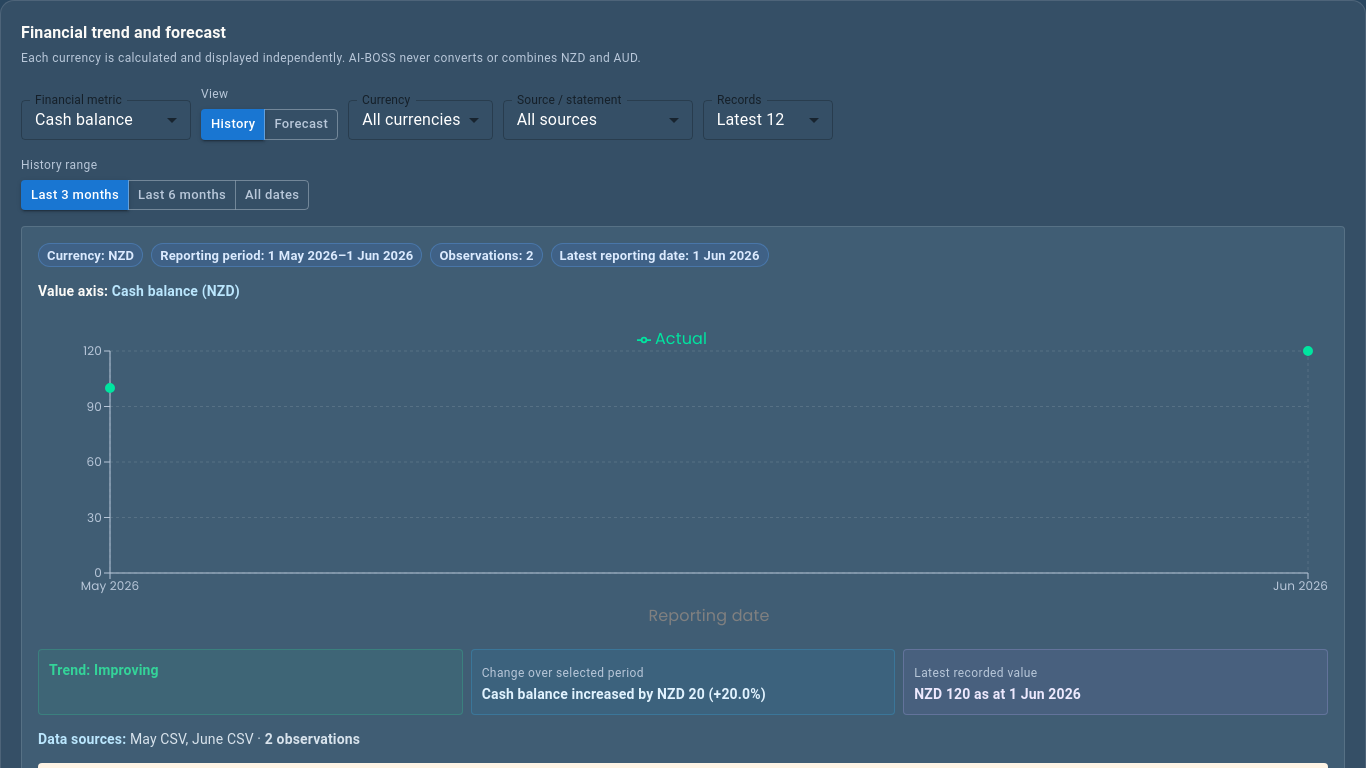
Scenario: HistoricalMetricsChart › loads a deterministic forecast when forecast mode and a horizon are selected
Expected: the text "Trend: improving" is shown, [49,662,159,678]
Click the button "Forecast".
click(301, 124)  # box [264,109,338,140]
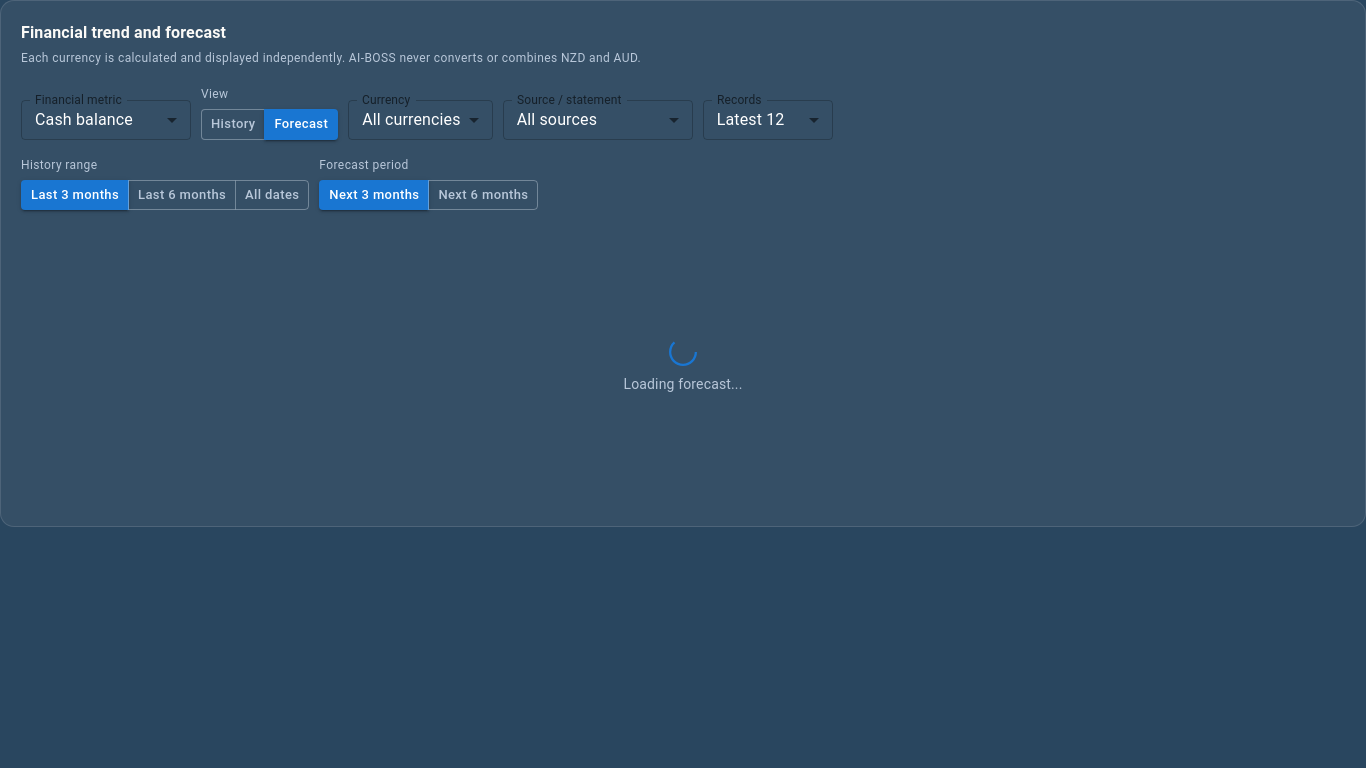
Click the button "Next 6 months".
click(483, 195)  # box [428,180,538,210]
(page scrolled)
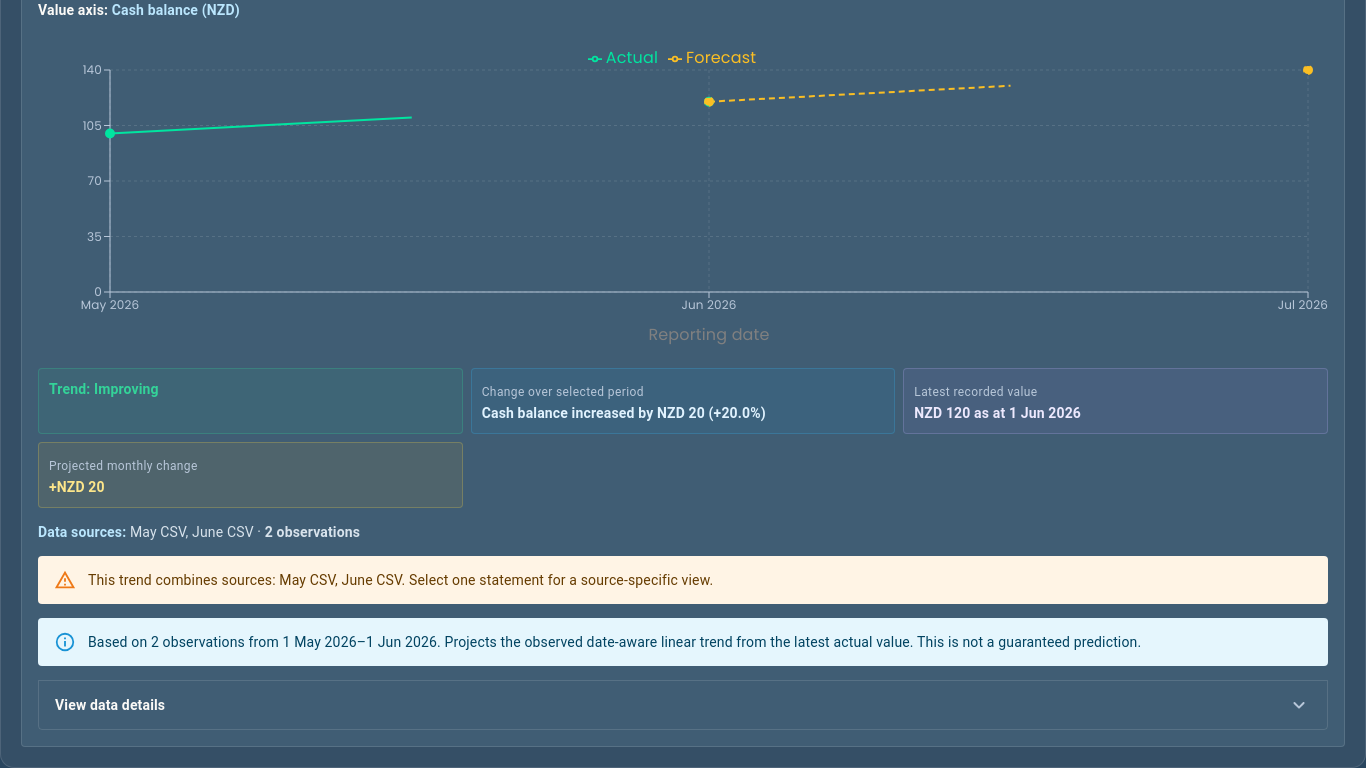
Expected: the text "Projected monthly change" is shown, [49,459,198,473]
Expected: the text "+NZD 20" is shown, [49,479,105,495]
